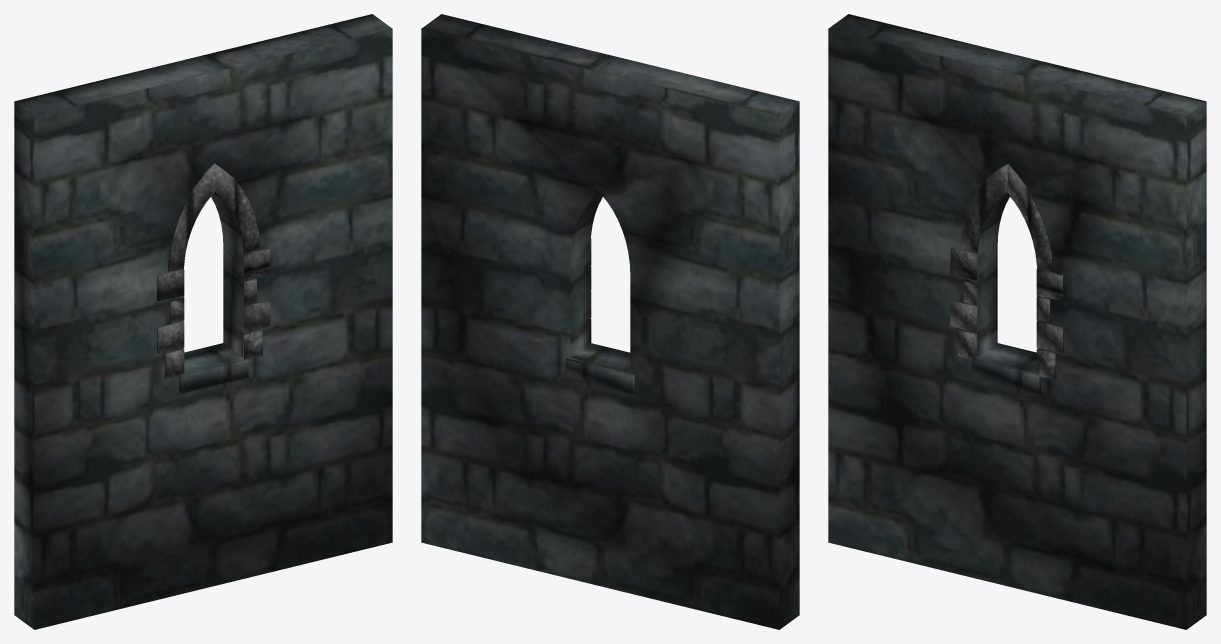
Rendered from dark stone window.glb.
3 renders of one model, left to right at view 1: azimuth 30°, elevation 25°; view 2: azimuth 150°, elevation 25°; view 3: azimuth 330°, elevation 25°, orthographic.
Visible parts, largest first — view 1: Circular Doorway.036; view 2: Circular Doorway.036; view 3: Circular Doorway.036.
Part boxes in pixels (left/top/right/bottom): Circular Doorway.036: left=14, top=14, right=392, bottom=629; Circular Doorway.036: left=421, top=14, right=799, bottom=629; Circular Doorway.036: left=828, top=14, right=1206, bottom=629.
Bounding box in the file's own units: 2 × 2.74 × 0.225.
2 materials, 2 textured.
